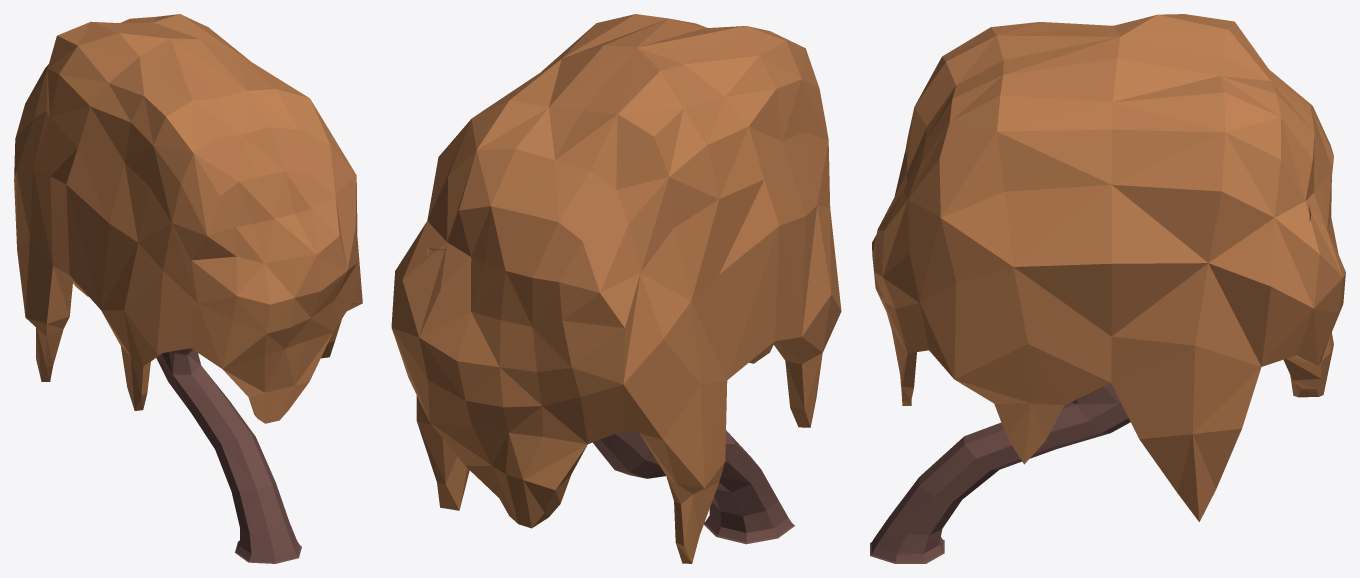
Rendered from Willow_Autumn_3.glb.
3 views of the same model, side by side, from view 1: azimuth 30°, elevation 25°; view 2: azimuth 150°, elevation 25°; view 3: azimuth 270°, elevation 25° (orthographic). The views are drawn at different scales.
Parts seen in each view (by area): view 1: Model; view 2: Model; view 3: Model.
Part boxes in pixels (<box>): Model: <box>14,14,362,563</box>; Model: <box>391,14,841,563</box>; Model: <box>870,14,1345,563</box>.
Size of the model in its own units: 132 by 235 by 198.
